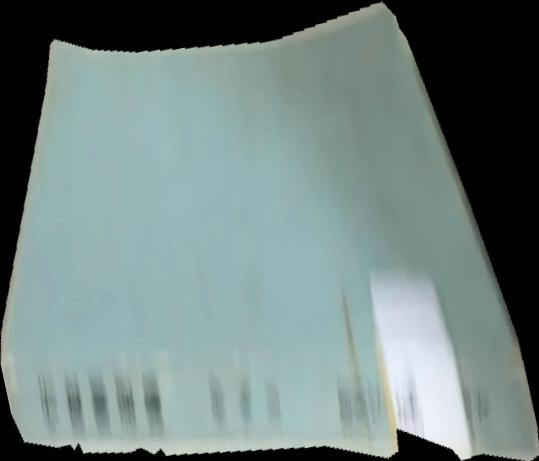flat: (1, 1, 539, 461)
